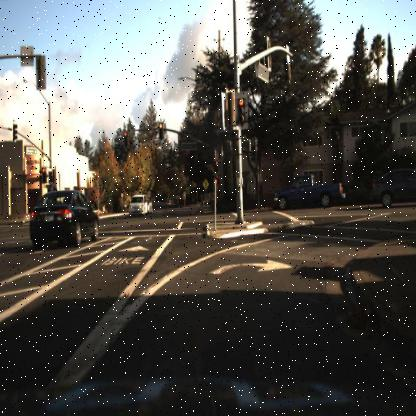car: (26, 187, 100, 251), (271, 171, 347, 213), (372, 168, 416, 208), (128, 193, 148, 216), (146, 197, 158, 217)
trafficLight-Red: (235, 95, 246, 126), (212, 157, 220, 176), (158, 119, 165, 140)
trafficLight-RedLeft: (40, 165, 48, 185), (122, 128, 130, 146)
